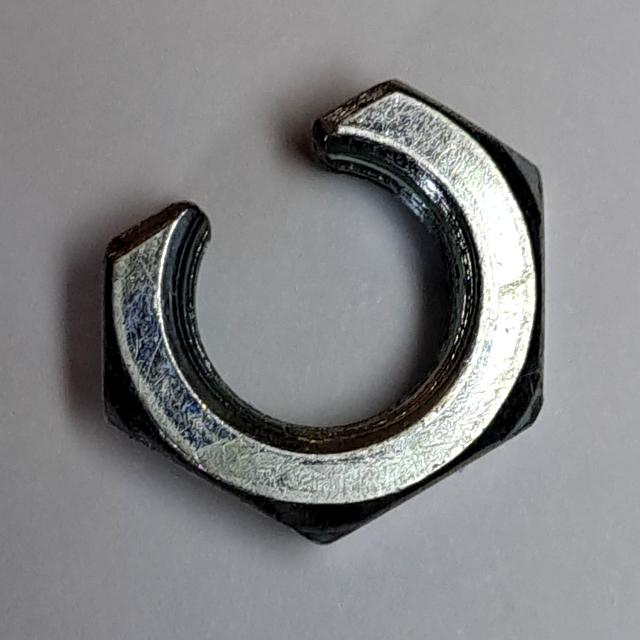Fracture: (83, 68, 564, 562)
